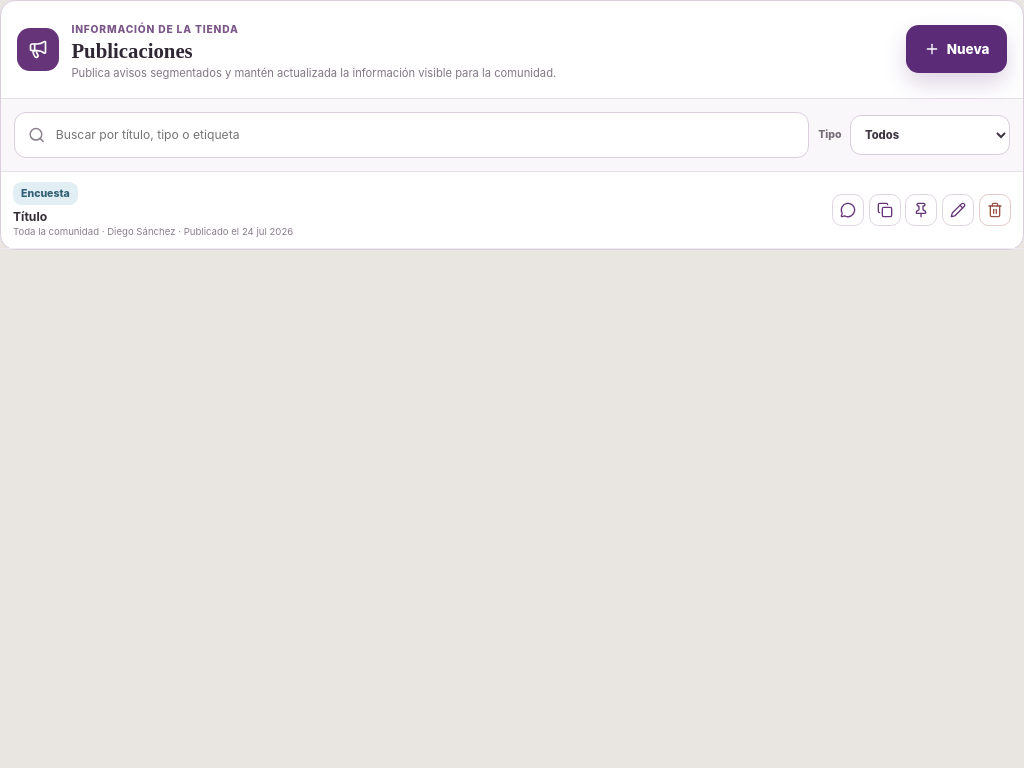
Test: CommunicationManagementPanel › keeps the poll type selectable while editing a publication that uses it
The image size is (1024, 768).
Click the button named "Modificar Título" at (958, 210), box [942,194,974,226]
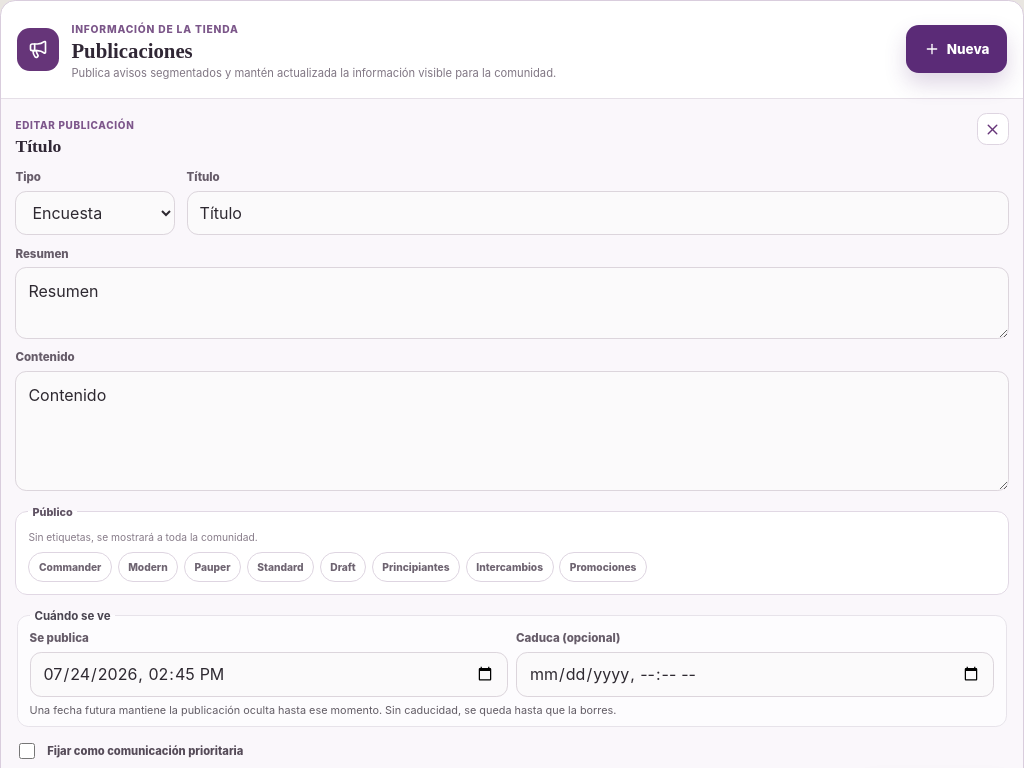
Expected: the dropdown named "Tipo de comunicación" shows "Encuesta", [15,190,175,235]
